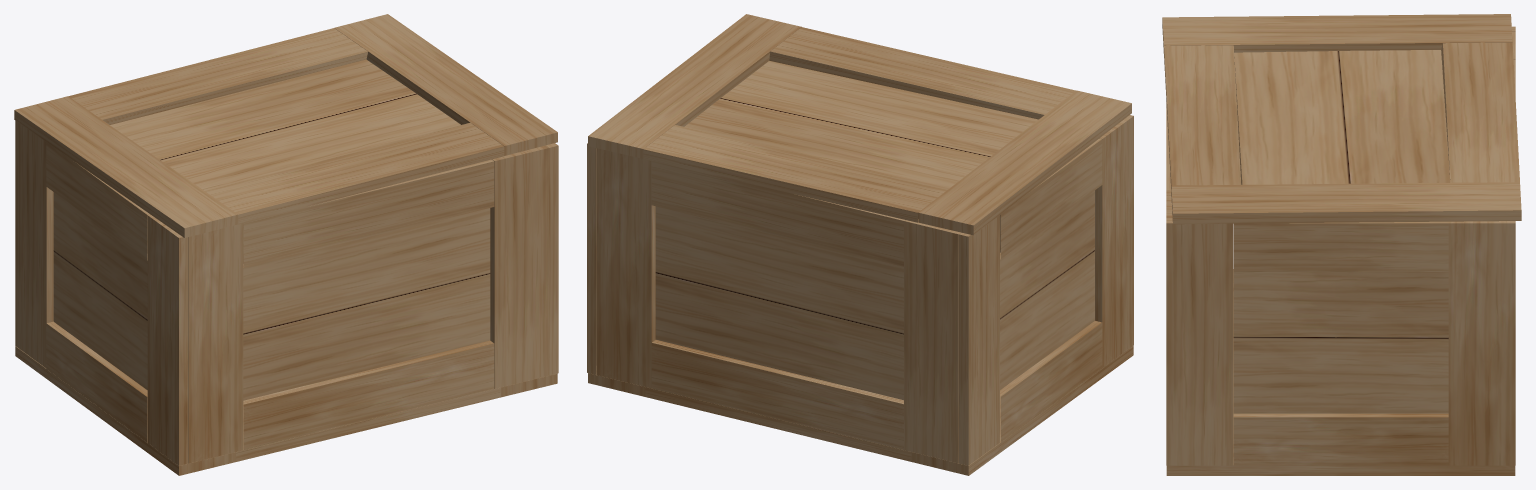
File: md_woodenBox1.fbx
3 views of the same model, side by side, from view 1: azimuth 30°, elevation 25°; view 2: azimuth 150°, elevation 25°; view 3: azimuth 270°, elevation 25° (orthographic). The views are drawn at different scales.
Parts seen in each view (by area): view 1: _MT_0011, _MT_005, _MT_0014, _MT_0012, _MT_0010, _MT_006, _MT_004, _MT_0015, _MT_0013, _MT_0016, _MT_007; view 2: _MT_002, _MT_005, _MT_0014, _MT_001, _MT_003, _MT_006, _MT_004, _MT_0013, _MT_0015, _MT_0016, _MT_009; view 3: _MT_008, _MT_005, _MT_009, _MT_007, _MT_004, _MT_006, _MT_0016.
Boxes of the visible parts, left/top/right/bottom form: _MT_0011: left=243, top=159, right=494, bottom=450; _MT_005: left=68, top=28, right=504, bottom=224; _MT_0014: left=46, top=142, right=149, bottom=442; _MT_0012: left=490, top=145, right=548, bottom=388; _MT_0010: left=188, top=223, right=243, bottom=463; _MT_006: left=14, top=96, right=238, bottom=237; _MT_004: left=334, top=14, right=557, bottom=155; _MT_0015: left=147, top=214, right=188, bottom=465; _MT_0013: left=15, top=121, right=53, bottom=367; _MT_0016: left=15, top=346, right=557, bottom=475; _MT_007: left=546, top=143, right=558, bottom=375; _MT_002: left=651, top=161, right=904, bottom=449; _MT_005: left=643, top=27, right=1075, bottom=222; _MT_0014: left=1000, top=138, right=1102, bottom=442; _MT_001: left=597, top=148, right=655, bottom=388; _MT_003: left=904, top=219, right=960, bottom=463; _MT_006: left=918, top=90, right=1131, bottom=235; _MT_004: left=588, top=14, right=801, bottom=158; _MT_0013: left=959, top=215, right=999, bottom=465; _MT_0015: left=1095, top=115, right=1133, bottom=367; _MT_0016: left=588, top=345, right=1133, bottom=475; _MT_009: left=587, top=143, right=596, bottom=374; _MT_008: left=1233, top=221, right=1448, bottom=465; _MT_005: left=1164, top=42, right=1519, bottom=188; _MT_009: left=1448, top=221, right=1515, bottom=465; _MT_007: left=1166, top=218, right=1233, bottom=465; _MT_004: left=1171, top=182, right=1521, bottom=224; _MT_006: left=1162, top=14, right=1512, bottom=53; _MT_0016: left=1166, top=269, right=1515, bottom=475.
Bounding box in the file's own units: 8.13 × 5.01 × 6.18.
Materials: 1 (1 with a texture image).
